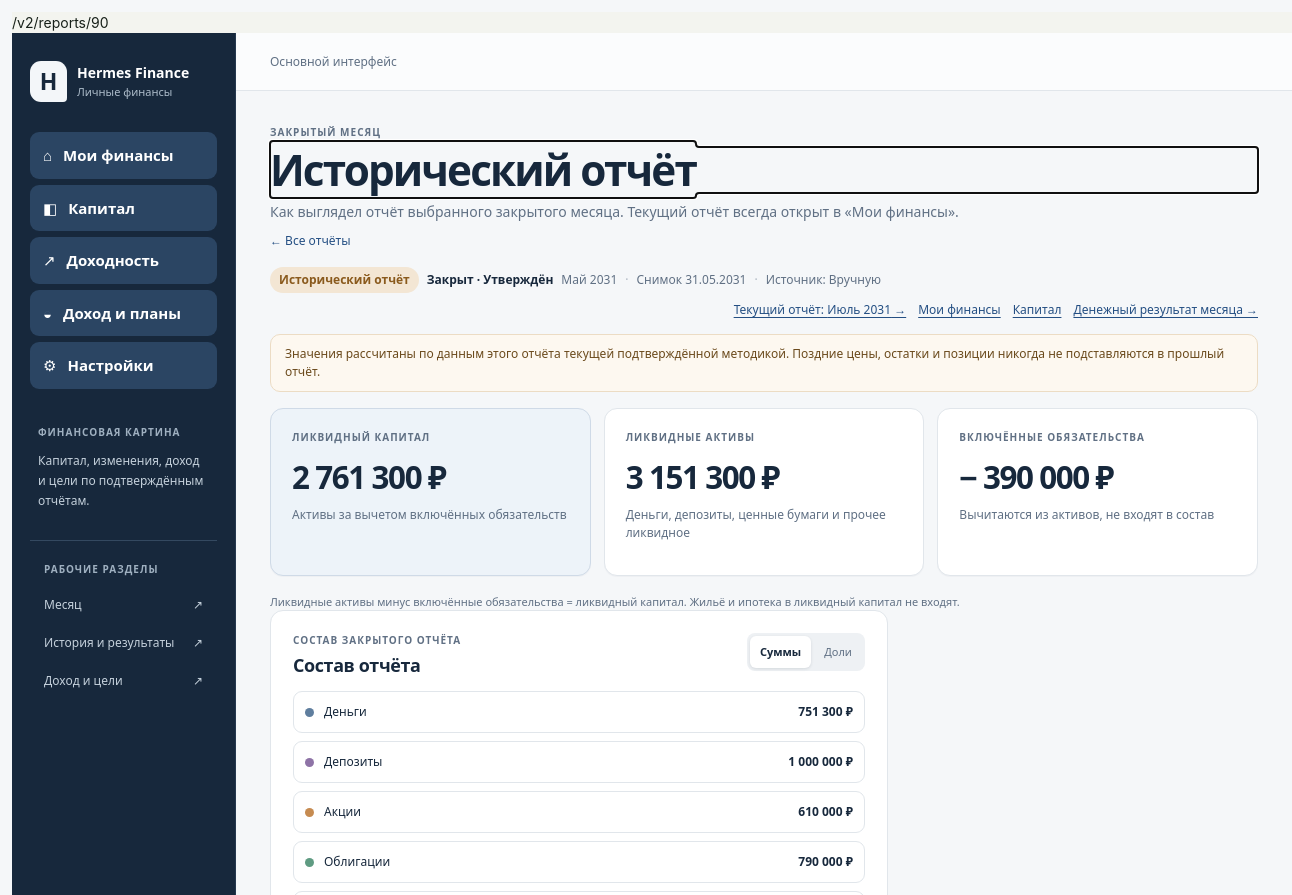
Scenario: UI v2 historical report › shows the historical context, canonical values, composition and neighbours
Expected: the heading "Исторический отчёт" is shown, x1=270 y1=141 x2=696 y2=198
Expected: the element with test id "v2-report-context" shows "Исторический отчёт", x1=279 y1=271 x2=410 y2=288
Click the button "Доли": {"x": 838, "y": 652} x1=814 y1=636 x2=862 y2=668
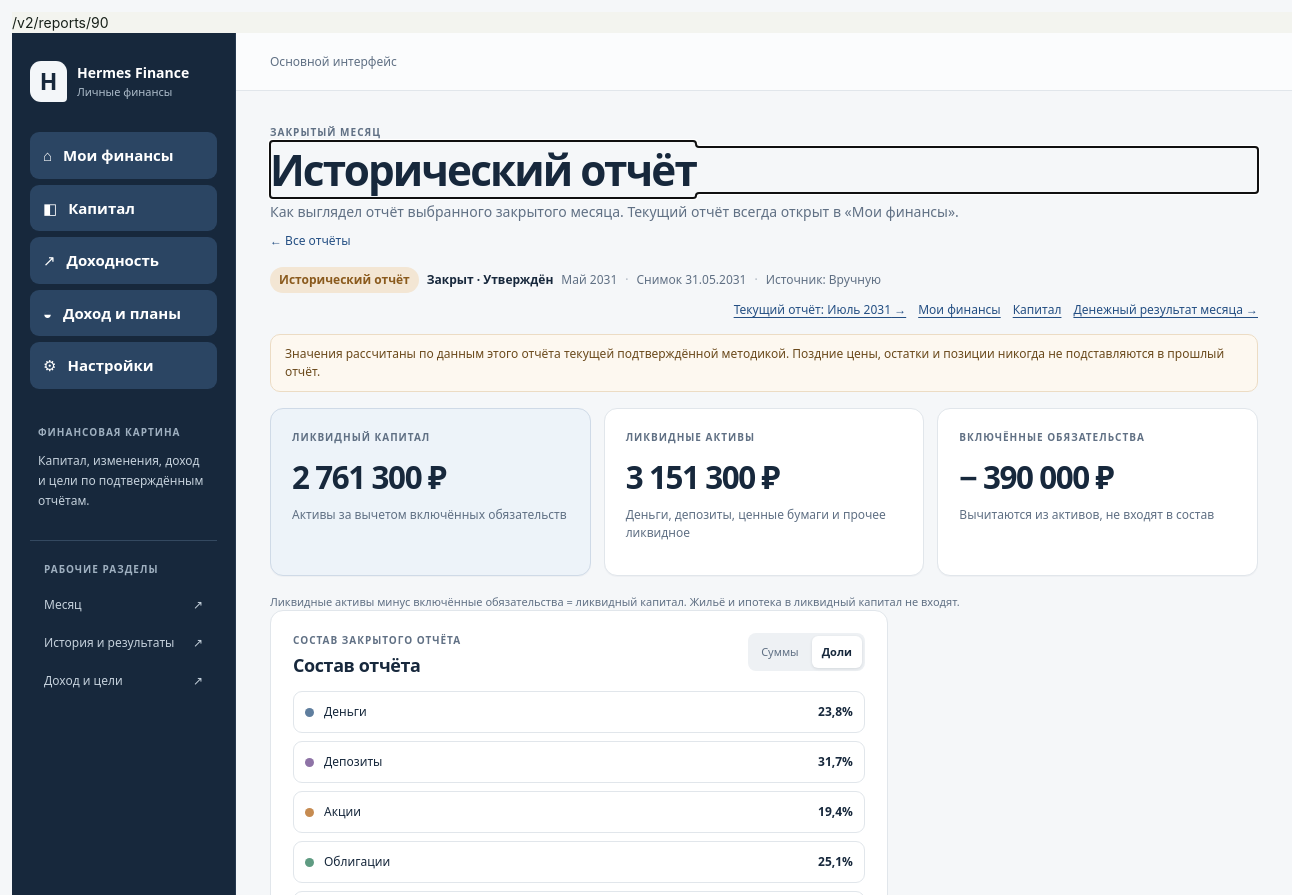
Expected: the text "Поздние цены, остатки и позиции никогда не подставляются" is shown, x1=285 y1=345 x2=1224 y2=380
Result: the list item with test id "report-class-cash" shows "%" at x1=293 y1=691 x2=865 y2=733
